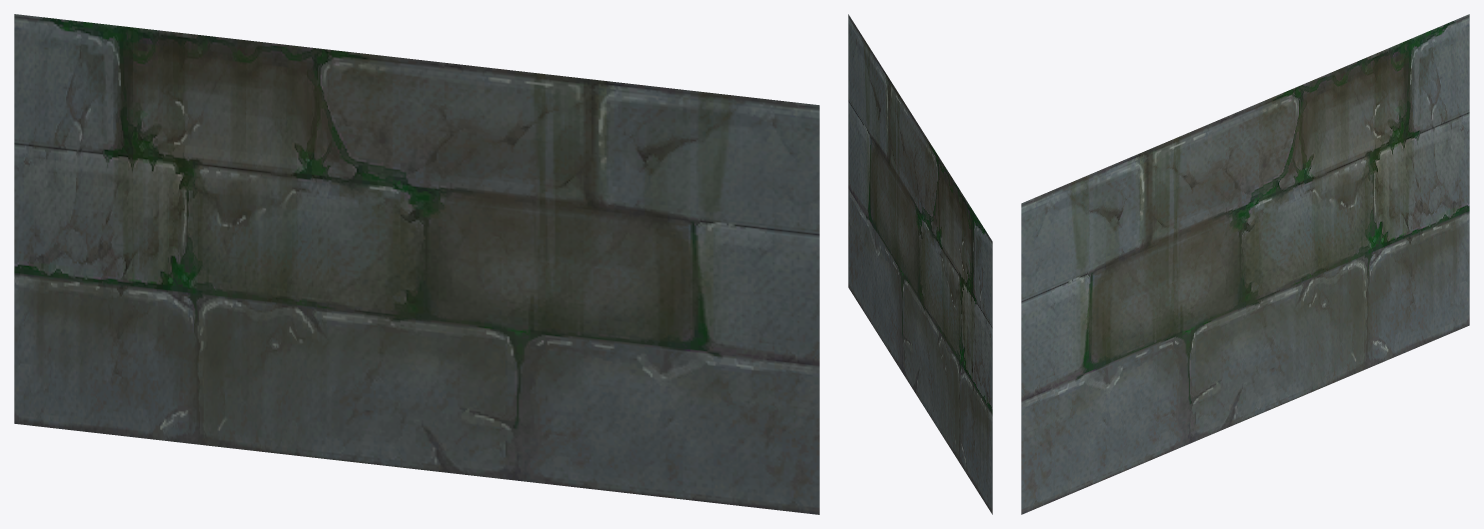
Rendered from stemple_half_diagonal_02.fbx.
3 renders of one model, left to right at view 1: azimuth 30°, elevation 25°; view 2: azimuth 150°, elevation 25°; view 3: azimuth 270°, elevation 25°, orthographic. The views are drawn at different scales.
Visible parts, largest first — view 1: obj0.209; view 2: obj0.209; view 3: obj0.209.
Part boxes in pixels (x1,y1,x2,y2): obj0.209: [14, 14, 819, 514]; obj0.209: [848, 14, 992, 514]; obj0.209: [1021, 14, 1469, 514].
Size of the model in its own units: 3.59 by 2.75 by 3.59.
